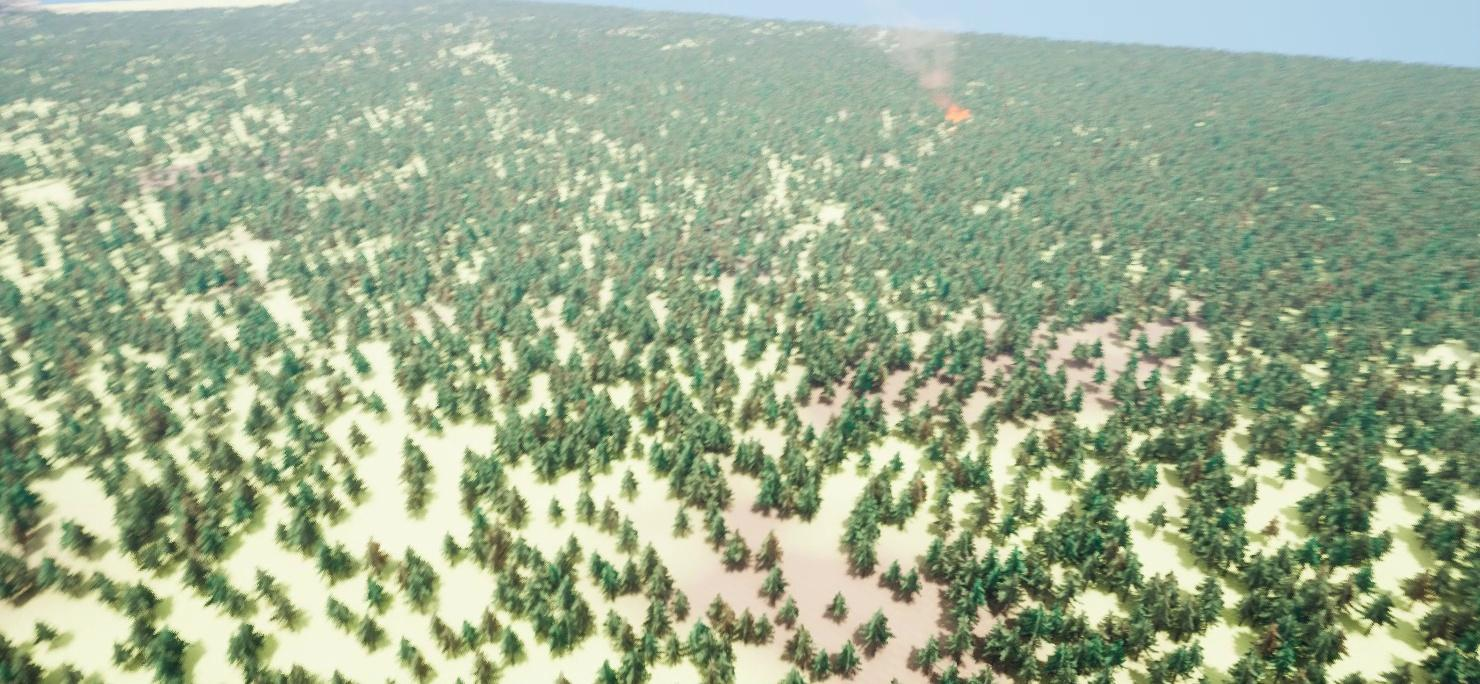fire: (944, 100, 974, 120)
smoke: (859, 16, 969, 97)
